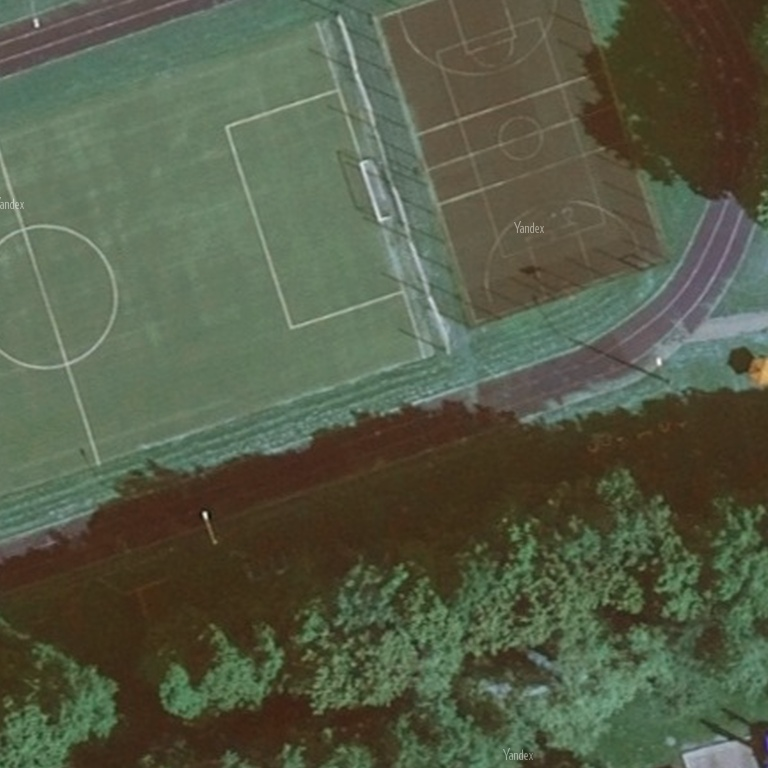basket_court: (365, 1, 675, 335)
